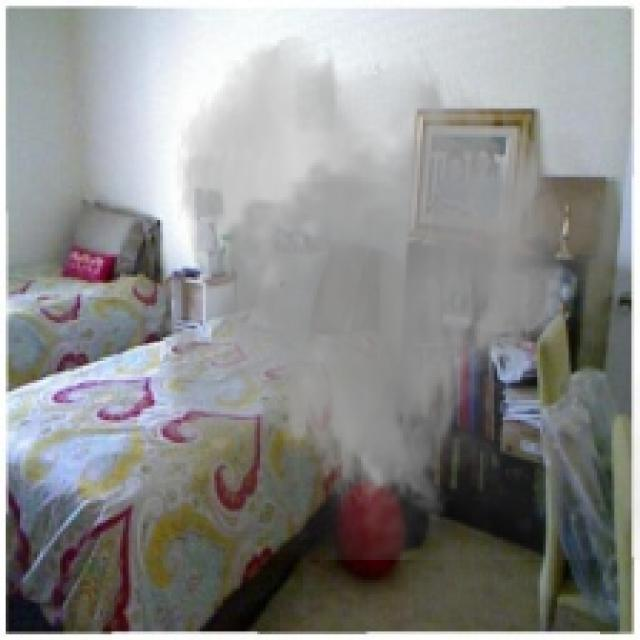smoke: (120, 31, 637, 563)
